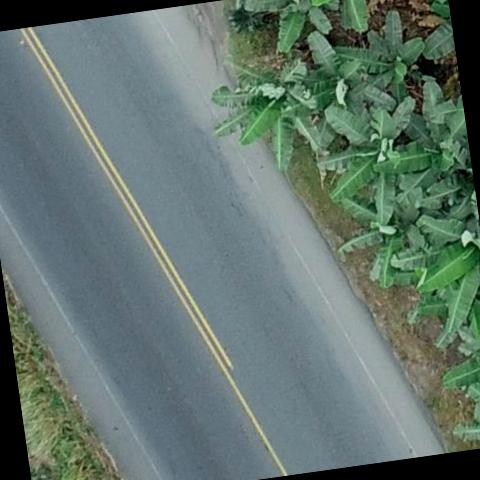Banana-plant: (208, 56, 331, 176), (288, 20, 398, 153), (314, 100, 428, 222), (364, 76, 474, 196), (336, 182, 431, 294), (333, 8, 430, 112), (417, 201, 480, 351)
